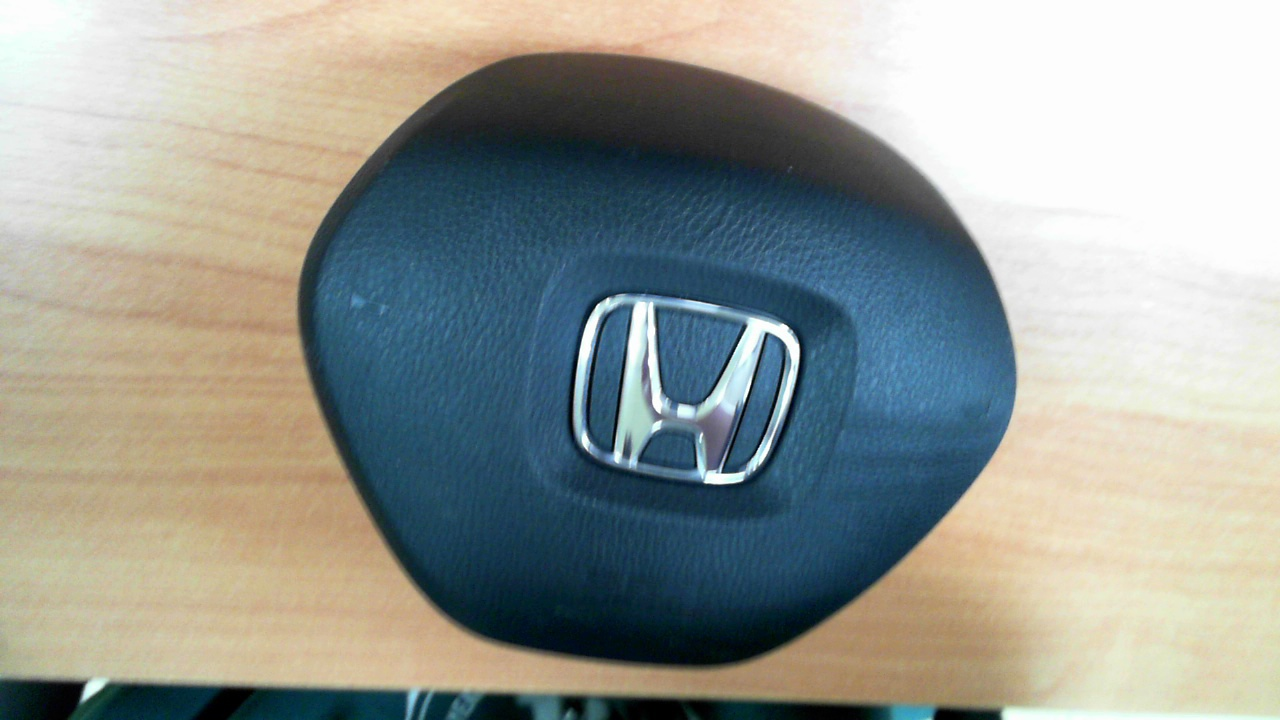Airbag: (296, 50, 1019, 668)
Honda: (571, 292, 802, 485)
